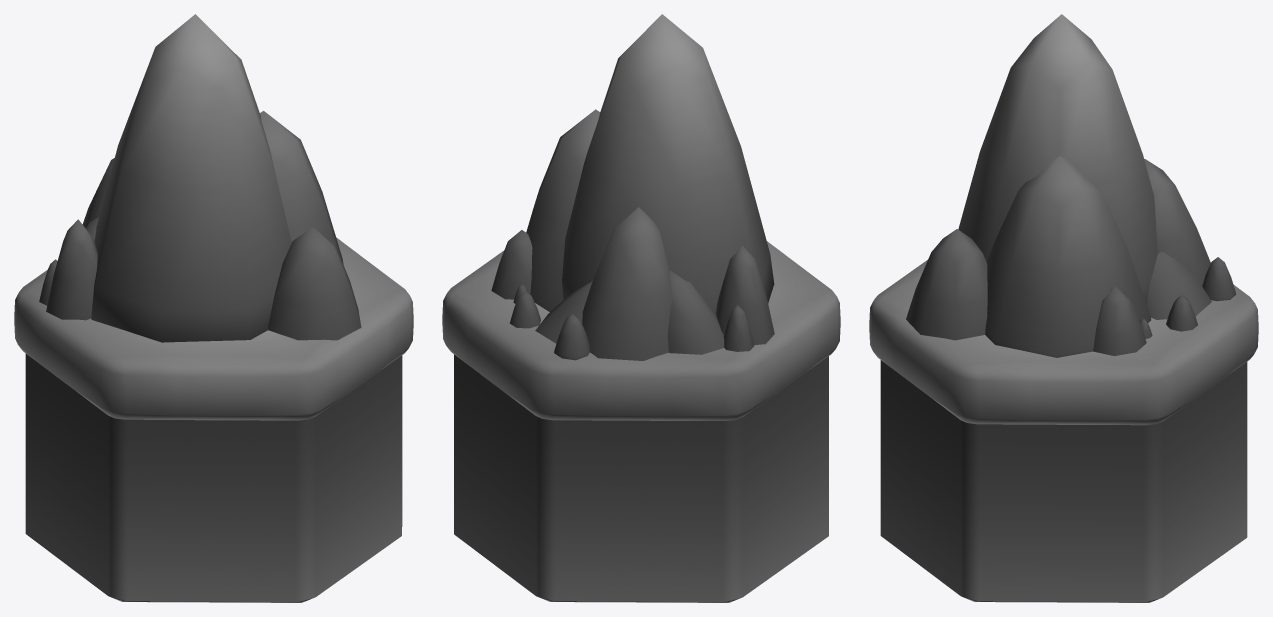
File: TILE_Mountain.fbx
The picture shows the model from 3 angles, left to right: view 1: azimuth 30°, elevation 25°; view 2: azimuth 150°, elevation 25°; view 3: azimuth 270°, elevation 25°; orthographic projection. The views are drawn at different scales.
Visible parts, largest first — view 1: Cylinder.019, Cylinder.063, Cylinder.027, Cylinder.020, Cylinder.062, Cylinder.066, Cylinder.028; view 2: Cylinder.019, Cylinder.063, Cylinder.027, Cylinder.028, Cylinder.062, Cylinder.064, Cylinder.066, Cylinder.061, Cylinder.058, Cylinder.057, Cylinder.065, Cylinder.059; view 3: Cylinder.019, Cylinder.027, Cylinder.063, Cylinder.062, Cylinder.020, Cylinder.028, Cylinder.061, Cylinder.058, Cylinder.057, Cylinder.059.
Boxes of the visible parts, x1,y1,x2,y2 form: Cylinder.019: (25,353,402,602); Cylinder.063: (91,14,291,342); Cylinder.027: (14,237,413,420); Cylinder.020: (268,227,361,340); Cylinder.062: (260,111,343,263); Cylinder.066: (46,219,97,320); Cylinder.028: (82,158,114,228); Cylinder.019: (454,354,828,602); Cylinder.063: (562,14,774,313); Cylinder.027: (442,241,840,420); Cylinder.028: (582,207,672,360); Cylinder.062: (526,109,600,311); Cylinder.064: (667,270,724,354); Cylinder.066: (716,245,774,344); Cylinder.061: (491,230,532,299); Cylinder.058: (535,281,592,343); Cylinder.057: (554,314,589,360); Cylinder.065: (723,305,754,351); Cylinder.059: (509,291,540,328); Cylinder.019: (880,360,1247,602); Cylinder.027: (869,260,1258,425); Cylinder.063: (958,14,1157,304); Cylinder.062: (985,156,1151,357); Cylinder.020: (906,229,987,340); Cylinder.028: (1144,159,1210,285); Cylinder.061: (1093,286,1146,355); Cylinder.058: (1147,252,1211,319); Cylinder.057: (1202,257,1235,301); Cylinder.059: (1166,295,1197,331).
Size of the model in its own units: 1144 by 1834 by 1257.
